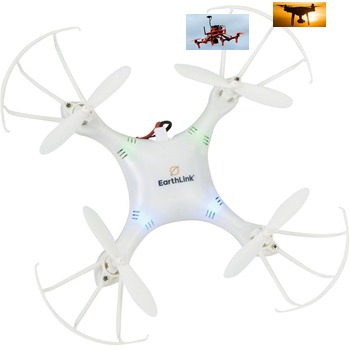drone: (39, 63, 312, 318), (186, 14, 249, 50), (273, 2, 326, 27)
